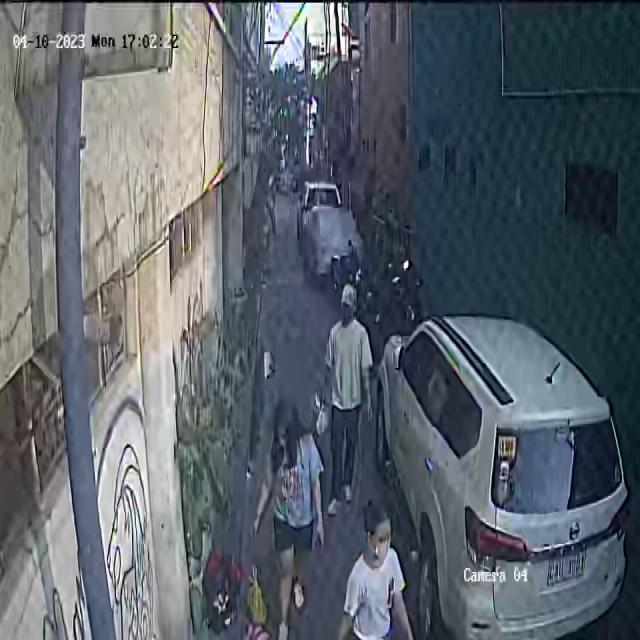garbage_dumping: (200, 548, 239, 630), (243, 564, 270, 626), (310, 383, 330, 444)
